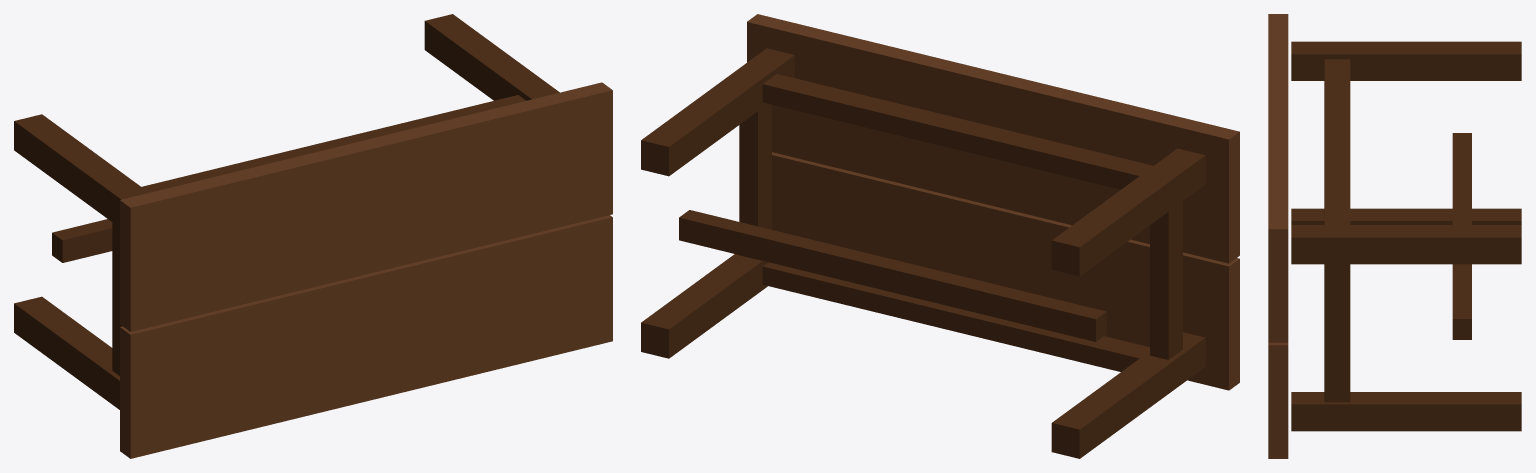
The model's file is SM_Izba_Table_1348_LOD1.obj.
3 views of the same model, side by side, from view 1: azimuth 30°, elevation 25°; view 2: azimuth 150°, elevation 25°; view 3: azimuth 270°, elevation 25° (orthographic). The views are drawn at different scales.
Parts seen in each view (by area): view 1: hand_planed_table_top, tapered_table_leg, table_rails, lower_stretcher, table_cross_rail; view 2: hand_planed_table_top, tapered_table_leg, table_rails, lower_stretcher, table_cross_rail; view 3: tapered_table_leg, hand_planed_table_top, table_rails, table_cross_rail, lower_stretcher.
Part boxes in pixels (left/top/right/bottom): hand_planed_table_top: left=120, top=82, right=612, bottom=458; tapered_table_leg: left=14, top=14, right=559, bottom=409; table_rails: left=142, top=95, right=525, bottom=192; lower_stretcher: left=52, top=219, right=112, bottom=262; table_cross_rail: left=112, top=222, right=122, bottom=375; hand_planed_table_top: left=747, top=14, right=1239, bottom=390; tapered_table_leg: left=641, top=48, right=1205, bottom=458; table_rails: left=762, top=74, right=1153, bottom=371; lower_stretcher: left=679, top=210, right=1106, bottom=341; table_cross_rail: left=739, top=104, right=1182, bottom=359; tapered_table_leg: left=1291, top=41, right=1521, bottom=431; hand_planed_table_top: left=1268, top=14, right=1288, bottom=458; table_rails: left=1324, top=59, right=1350, bottom=224; table_cross_rail: left=1324, top=81, right=1350, bottom=402; lower_stretcher: left=1452, top=133, right=1471, bottom=339.
Size of the model in its own units: 1.55 by 0.771 by 0.77.
